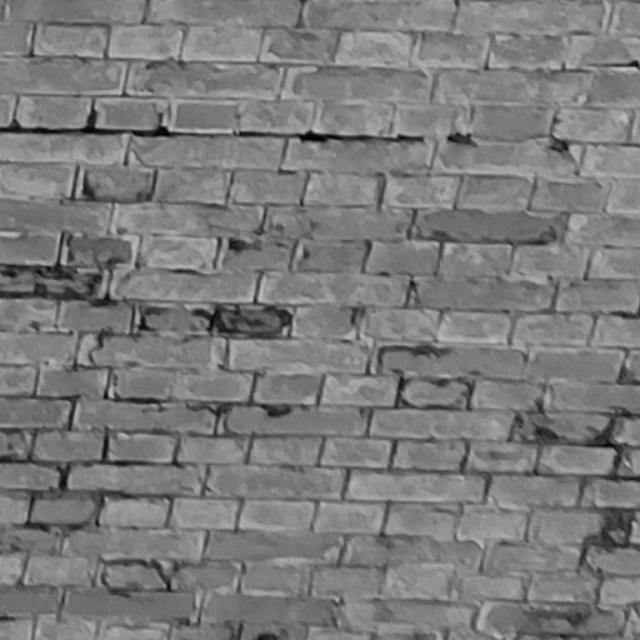crack: (1, 108, 424, 144)
